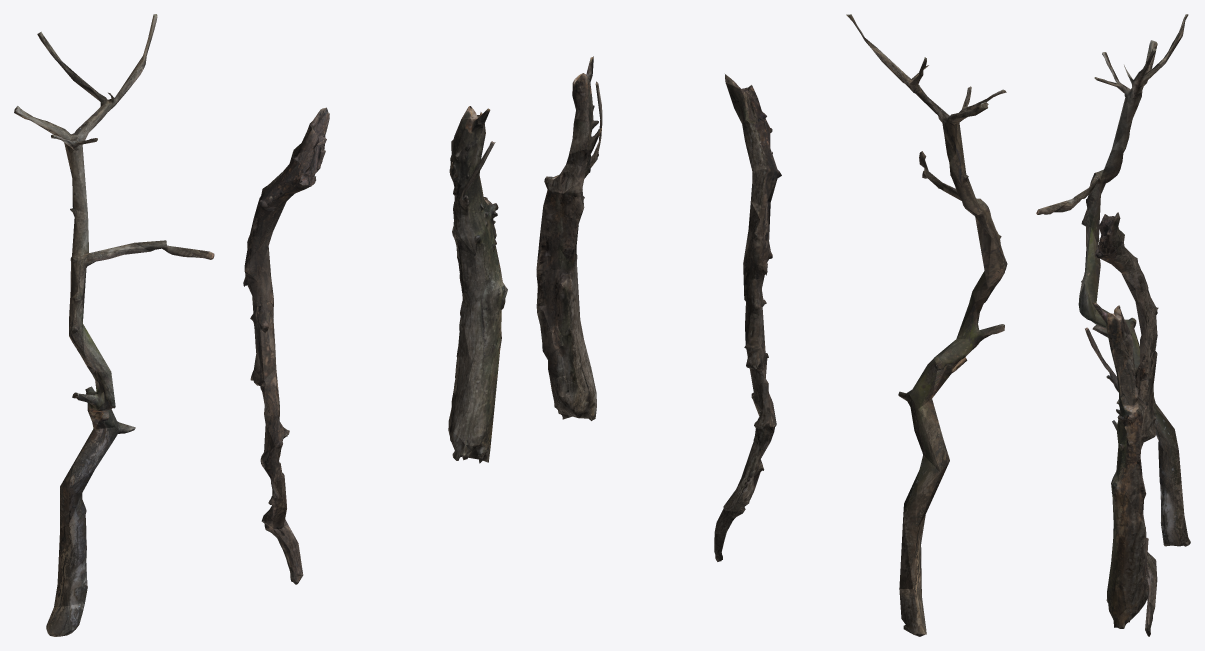
File: tree.fbx
3 renders of one model, left to right at view 1: azimuth 30°, elevation 25°; view 2: azimuth 150°, elevation 25°; view 3: azimuth 270°, elevation 25°, orthographic. The views are drawn at different scales.
Visible parts, largest first — view 1: dry_branches_medium_01_a, dry_branches_medium_01_c, dry_branches_medium_01_b; view 2: dry_branches_medium_01_a, dry_branches_medium_01_c, dry_branches_medium_01_b; view 3: dry_branches_medium_01_c, dry_branches_medium_01_a, dry_branches_medium_01_b.
Boxes of the visible parts, bbox=[...] form: dry_branches_medium_01_a: bbox=[14, 14, 214, 636]; dry_branches_medium_01_c: bbox=[448, 106, 507, 463]; dry_branches_medium_01_b: bbox=[243, 107, 329, 584]; dry_branches_medium_01_a: bbox=[846, 14, 1007, 636]; dry_branches_medium_01_c: bbox=[536, 56, 602, 420]; dry_branches_medium_01_b: bbox=[714, 74, 781, 561]; dry_branches_medium_01_c: bbox=[1085, 302, 1149, 628]; dry_branches_medium_01_a: bbox=[1036, 14, 1190, 546]; dry_branches_medium_01_b: bbox=[1095, 212, 1158, 636].
Bounding box in the file's own units: 106 × 130 × 34.01.
